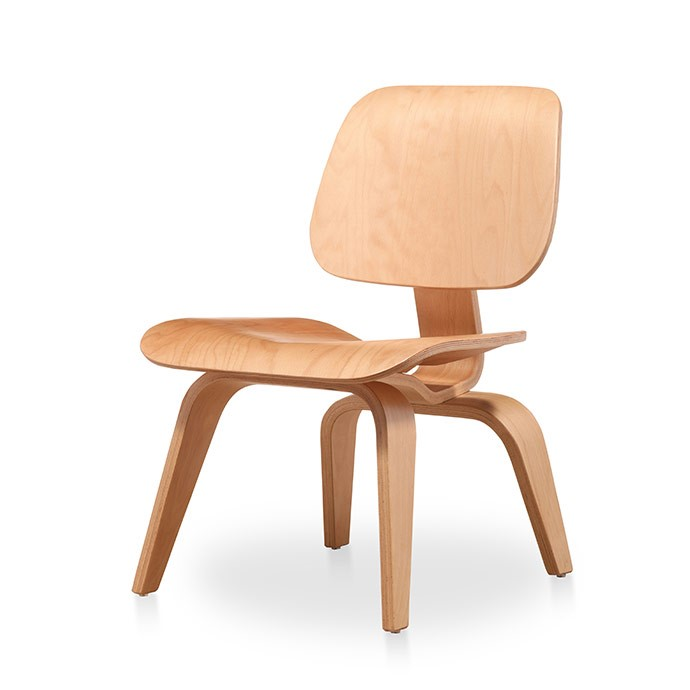chair: (135, 87, 566, 635)
